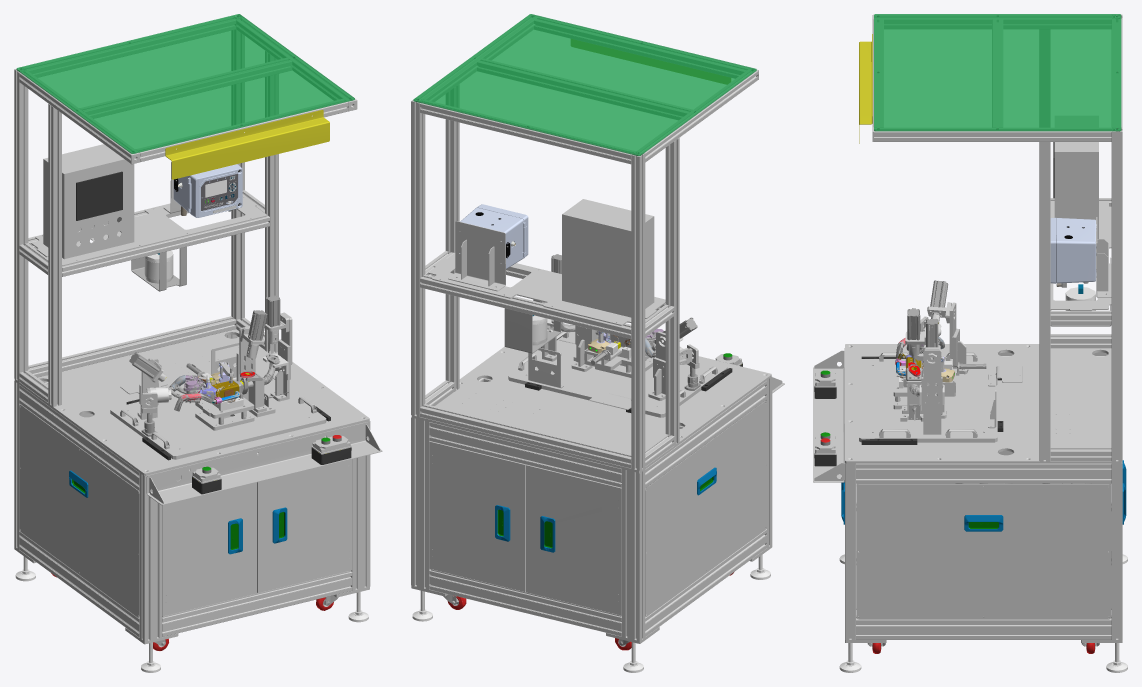
Rendered from station-04.glb.
3 renders of one model, left to right at view 1: azimuth 30°, elevation 25°; view 2: azimuth 150°, elevation 25°; view 3: azimuth 270°, elevation 25°, orthographic. The views are drawn at different scales.
Parts seen in each view (by area): view 1: part_000, part_005, part_004, part_002, part_006, part_007, part_008, part_003, part_009; view 2: part_000, part_005, part_002, part_007, part_008, part_003, part_004; view 3: part_000, part_005, part_007, part_008, part_009, part_002, part_006, part_004, part_003.
Part boxes in pixels (bbox=[...]): part_000: bbox=[14, 14, 382, 644]; part_005: bbox=[16, 14, 354, 153]; part_004: bbox=[165, 109, 329, 179]; part_002: bbox=[51, 246, 341, 650]; part_006: bbox=[76, 169, 351, 494]; part_007: bbox=[173, 164, 252, 402]; part_008: bbox=[15, 250, 368, 672]; part_003: bbox=[69, 470, 287, 554]; part_009: bbox=[101, 295, 280, 476]; part_000: bbox=[411, 14, 784, 643]; part_005: bbox=[413, 14, 756, 155]; part_002: bbox=[443, 299, 733, 650]; part_007: bbox=[460, 204, 623, 347]; part_008: bbox=[412, 315, 770, 672]; part_003: bbox=[495, 467, 716, 552]; part_004: bbox=[571, 39, 730, 84]; part_000: bbox=[813, 14, 1122, 642]; part_005: bbox=[874, 14, 1121, 131]; part_007: bbox=[899, 217, 1096, 378]; part_008: bbox=[839, 287, 1127, 672]; part_009: bbox=[907, 280, 1091, 486]; part_002: bbox=[820, 257, 1111, 653]; part_006: bbox=[814, 142, 1054, 466]; part_004: bbox=[859, 34, 872, 143]; part_003: bbox=[841, 460, 1126, 531].
Bounding box in the file's own units: 1.02 × 2.15 × 1.13.
